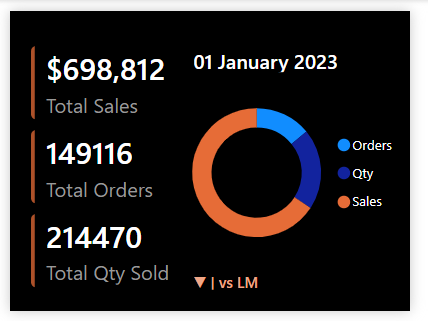

The page's visual inventory and layout, read from the dashboard file:
{"tool":"powerbi","page":{"name":"Tool Tip Calender Chart","canvas":[320,240],"ordinal":1},"visuals":[{"type":"cardVisual","fields":{"Data":["Transactions.Total Sales","Transactions.Total Orders","Transactions.Total Qty Sold"]},"box":[0,11,160,229],"z":0},{"type":"donutChart","fields":{"Y":["Transactions.Total Orders","Transactions.Total Qty Sold","Transactions.Total Sales"]},"box":[128,41,192,177],"z":1000},{"type":"cardVisual","fields":{"Data":["Min(Date Table.Date)"]},"box":[118,11,202,55],"z":2000},{"type":"cardVisual","fields":{"Data":["Transactions.MoM Growth & diff sales"]},"box":[118,191,202,49],"z":3000}]}

Visuals, with their boxes in screenshot pixels (x1, y1, x2, y2), scaled from the page's 320x240 canvas onto the 428x321 screenshot:
cardVisual - Transactions.Total Sales x Transactions.Total Orders: l=0, t=15, r=214, b=320
donutChart - Transactions.Total Orders x Transactions.Total Qty Sold: l=171, t=55, r=427, b=292
cardVisual - Min(Date Table.Date): l=158, t=15, r=427, b=88
cardVisual - Transactions.MoM Growth & diff sales: l=158, t=255, r=427, b=320
